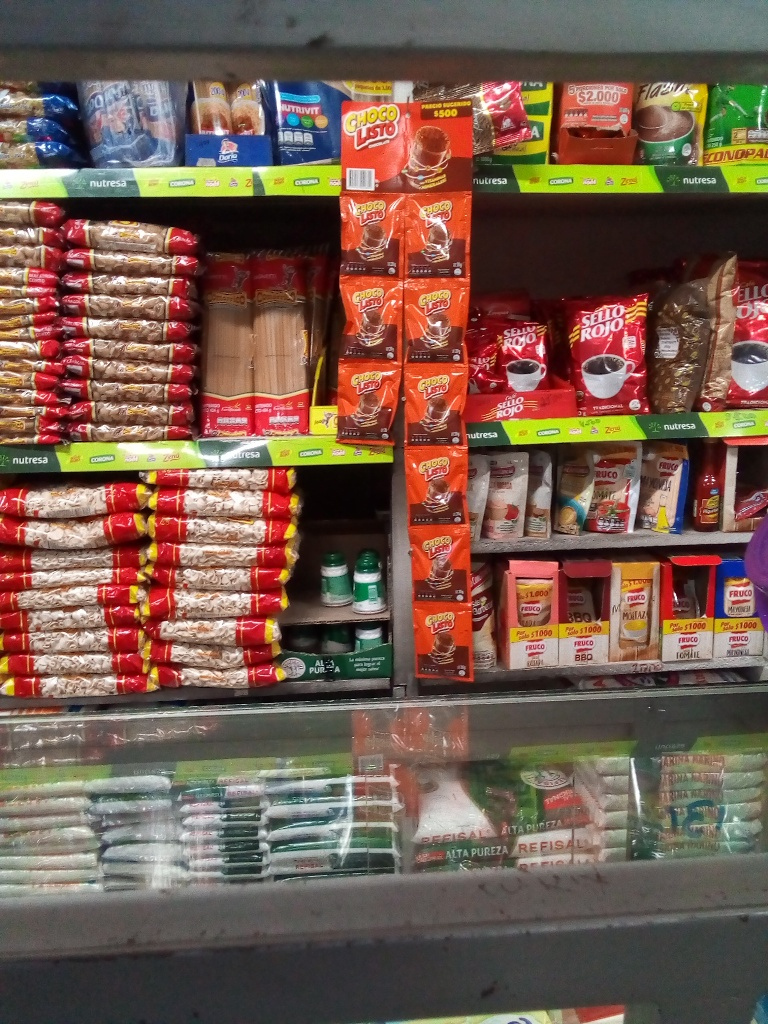COL0170103SOB02000: (407, 597, 480, 687)
